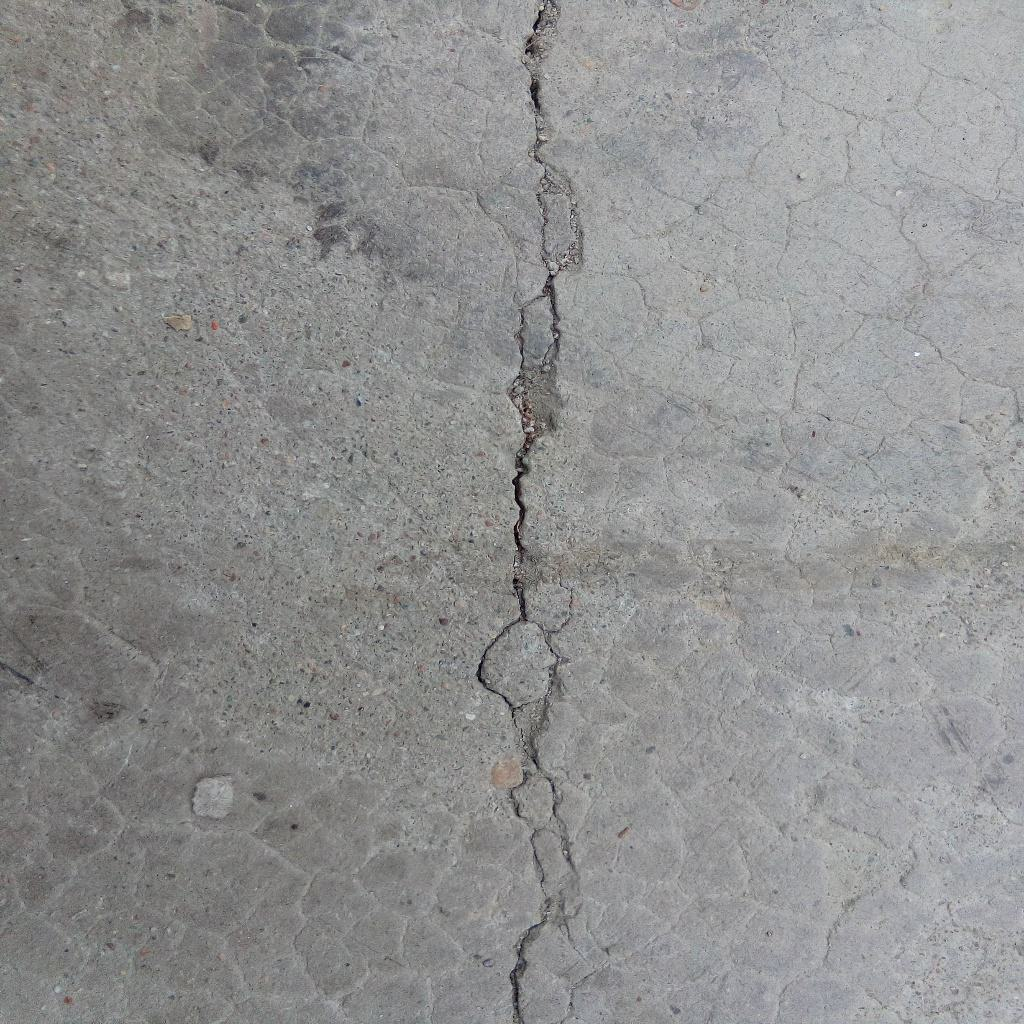Crack: (473, 1, 580, 1024)
